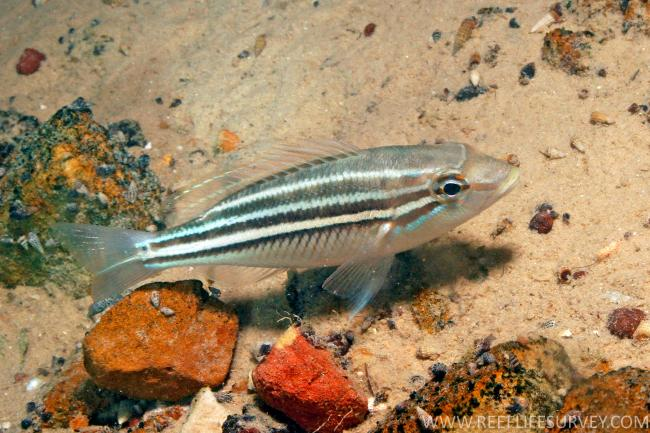fish: (55, 134, 521, 325)
